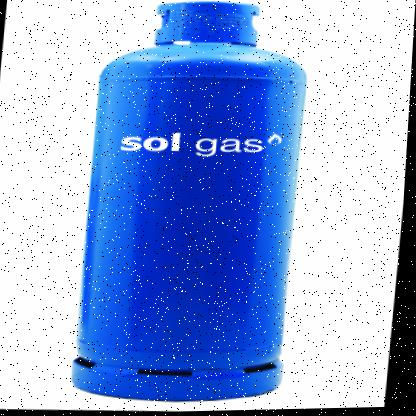gas-tank: (44, 0, 356, 414)
